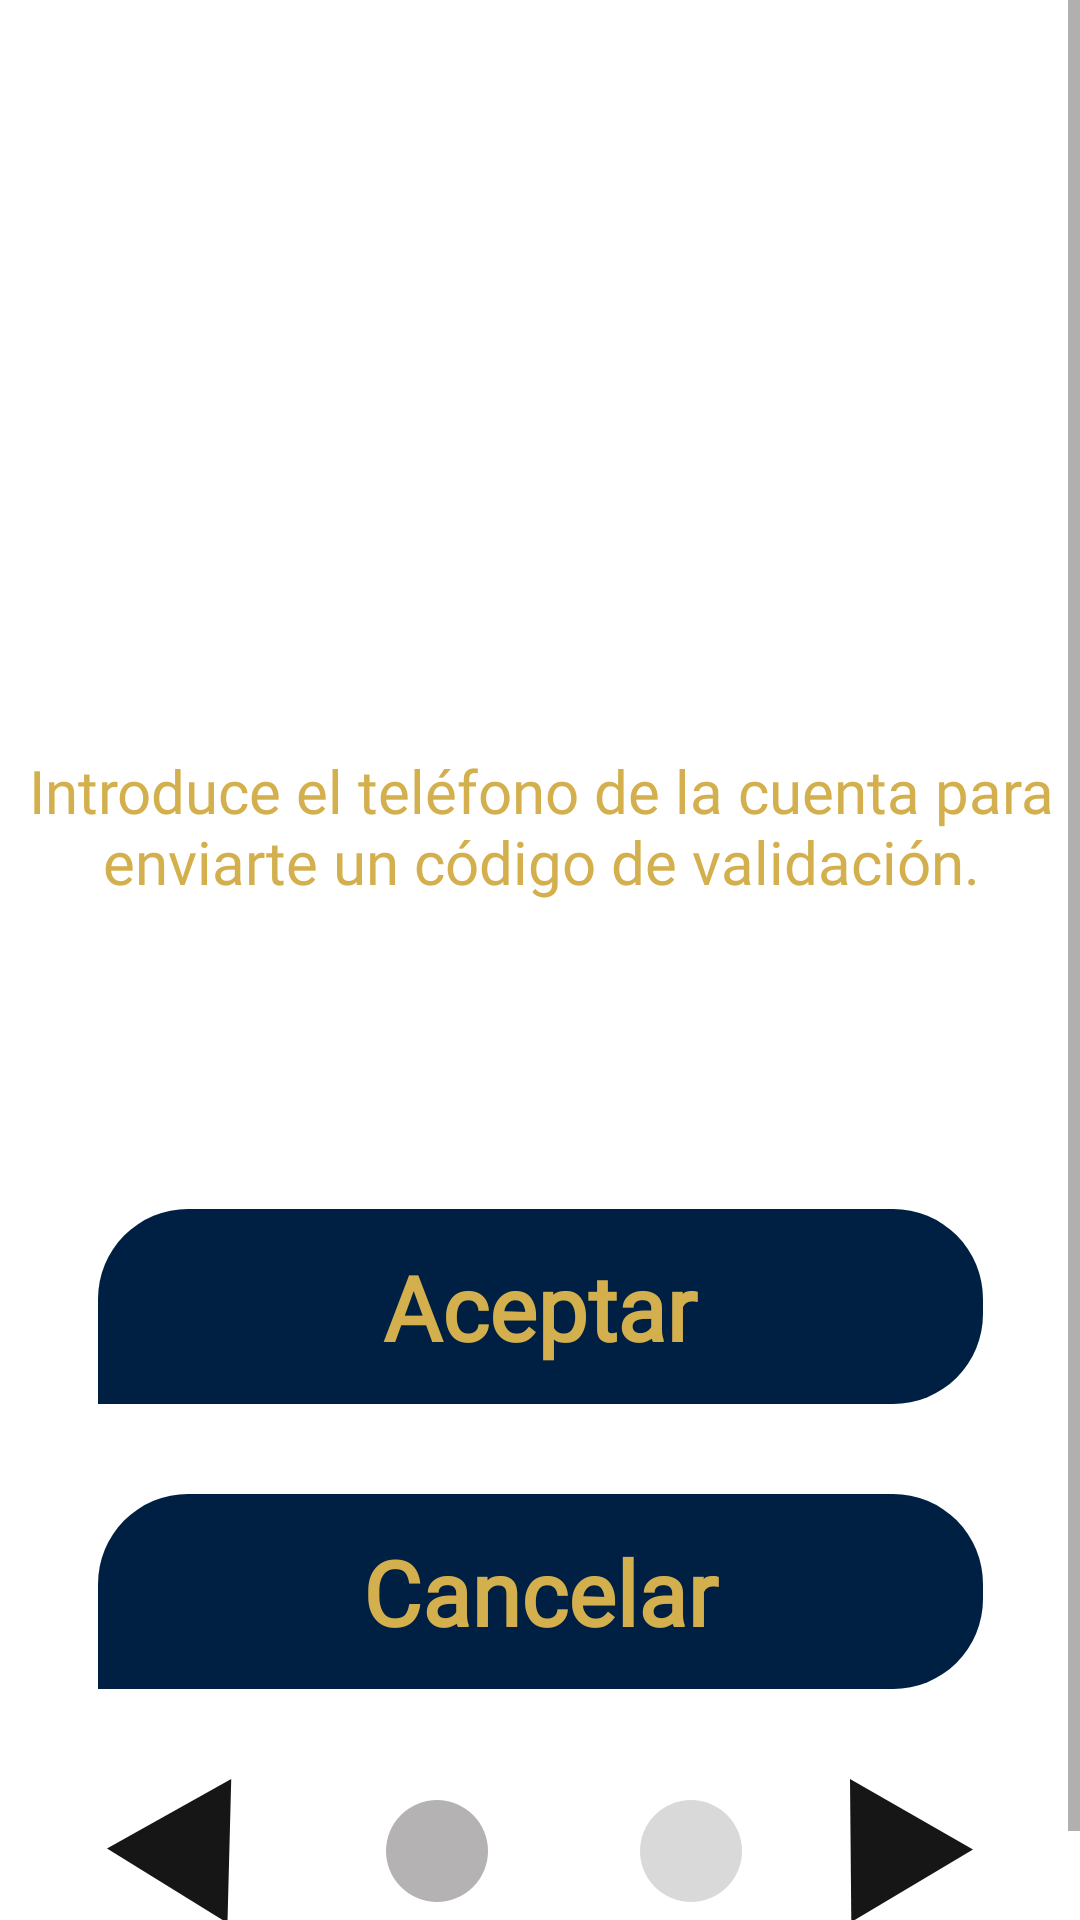

Icons on this 1080px x 1920px Android screen, each with its box as (x1, y1, x2, y2):
polygon: (107, 1779, 232, 1920), (850, 1779, 973, 1920)
